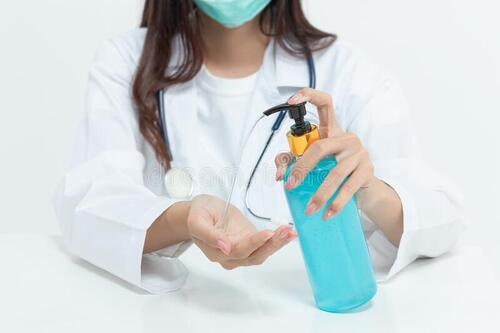sanitizer: (255, 103, 381, 311)
